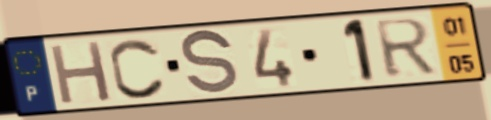1: (339, 16, 378, 85)
4: (251, 26, 298, 91)
C: (107, 36, 169, 101)
H: (46, 38, 115, 108)
R: (371, 16, 440, 81)
S: (178, 27, 241, 100)
